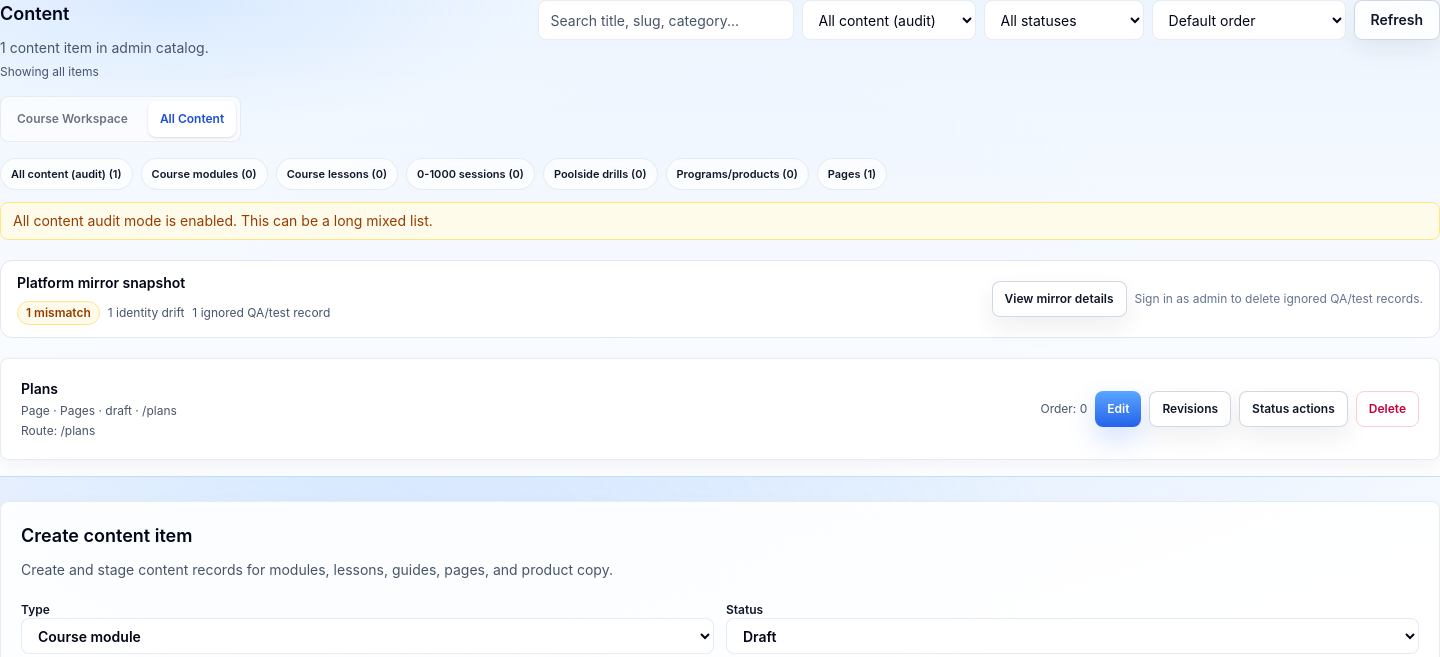
Test case: AdminContentManager state rendering › renders audit, mirror, and focus utility states through admin state feedback
The image size is (1440, 657).
Check: the message with test id "admin-content-audit-mode-state" reads "All content audit mode is enabled. This can be a long mixed list.", box top-left (13, 212), bottom-right (433, 229)
Check: the message with test id "admin-content-mirror-state" shows "Platform mirror snapshot", box top-left (17, 274), bottom-right (185, 291)
What coordinates should you click on to do the following:
click the button with test id "admin-mirror-summary"
I would click on:
 (1059, 299)
Its box is top-left (992, 281), bottom-right (1127, 317).
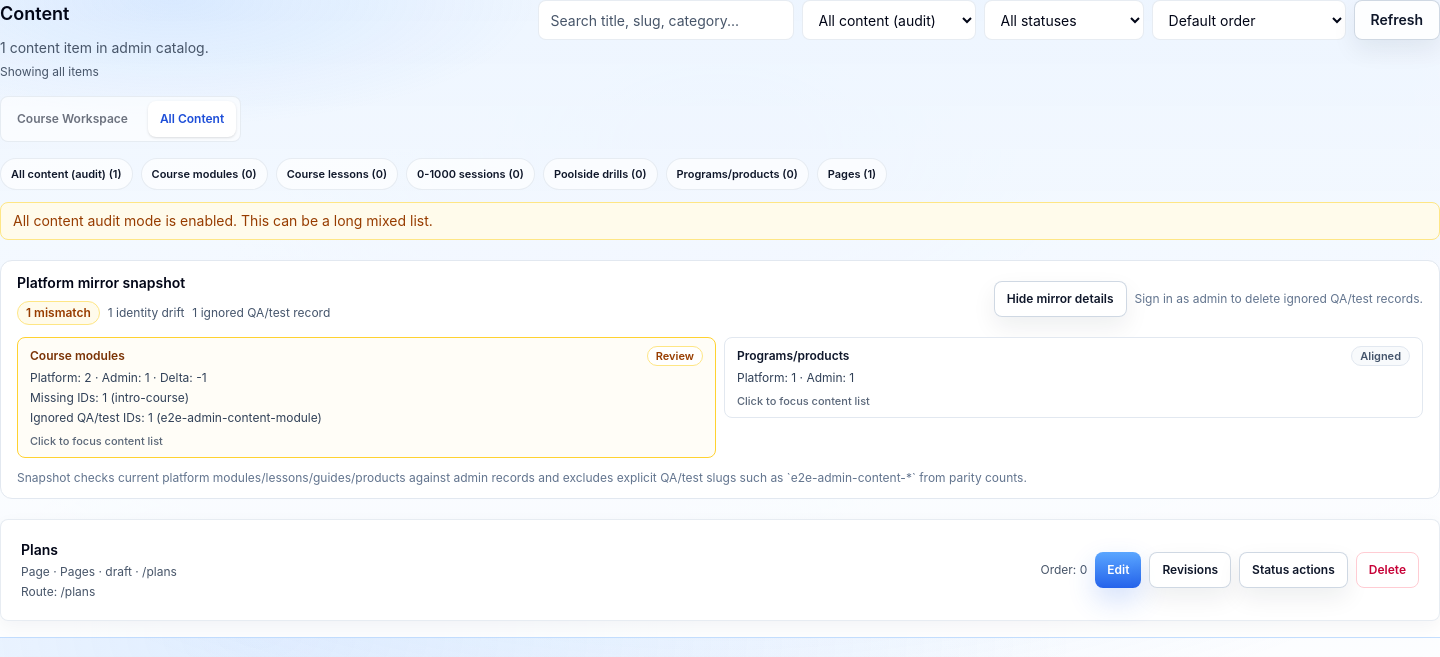
Check: the element with test id "admin-mirror-details" is shown, box top-left (17, 337), bottom-right (1423, 486)
Check: the button with test id "admin-mirror-summary" is expanded, box top-left (994, 281), bottom-right (1127, 317)
Check: the button with test id "admin-mirror-summary" reads "Hide mirror details", box top-left (994, 281), bottom-right (1127, 317)
What coordinates should you click on to do the following:
click the button with test id "admin-mirror-metric-course_module"
I would click on:
 (77, 356)
Its box is top-left (17, 337), bottom-right (716, 458).
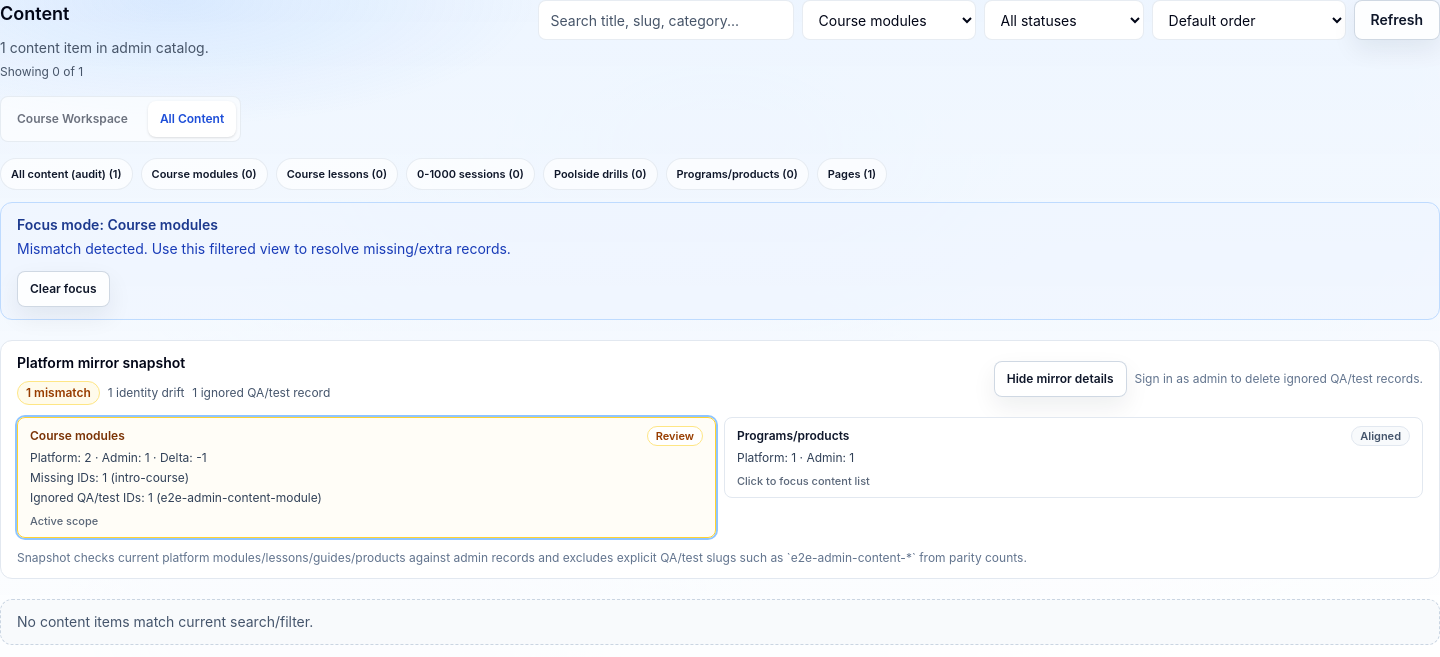
Check: the message with test id "admin-content-focus-mode" shows "Focus mode: Course modules", box top-left (17, 216), bottom-right (218, 233)
Check: the message with test id "admin-content-focus-mode" shows "Mismatch detected. Use this filtered view to resolve missing/extra records.", box top-left (17, 240), bottom-right (511, 257)
What coordinates should you click on to do the following:
click the button "Clear focus"
I would click on:
 (63, 289)
Its box is top-left (17, 271), bottom-right (110, 307).
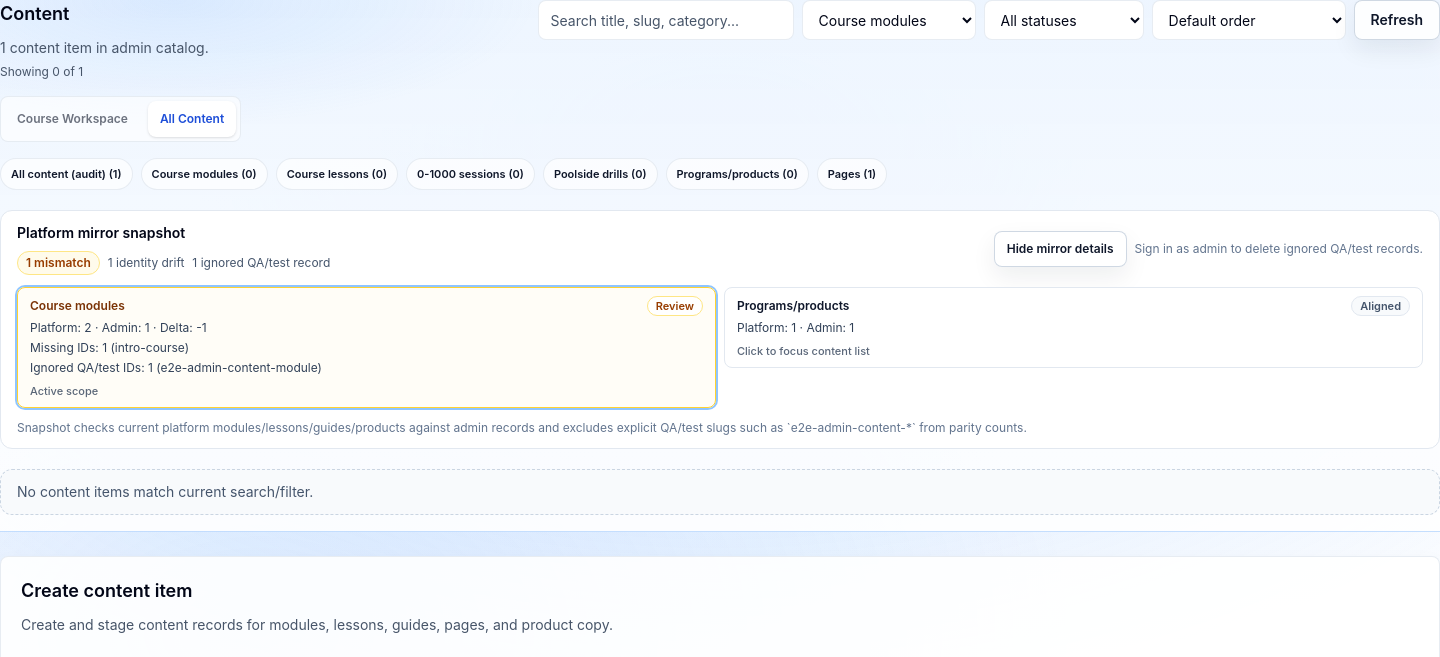
Check: the message with test id "admin-content-focus-mode" is gone
